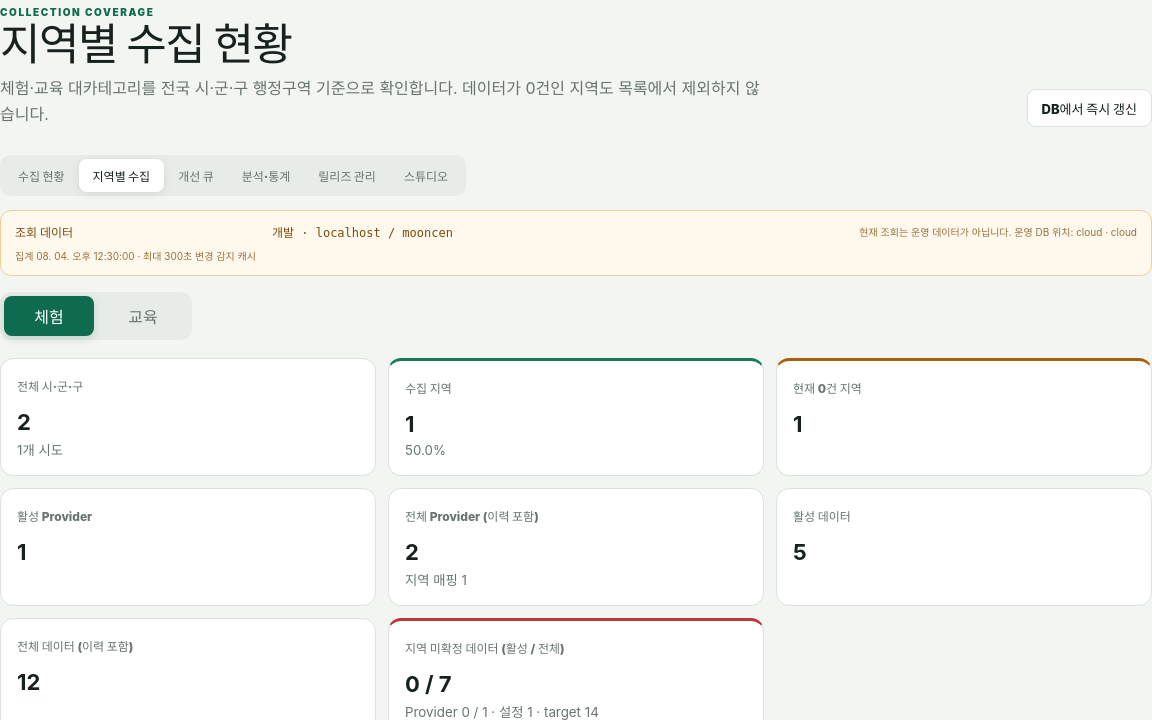
Test: RegionCoveragePage › switches the major category to education without dropping zero rows
Click the tab "교육" at (143, 316), box [98,296,188,336]
(page scrolled)
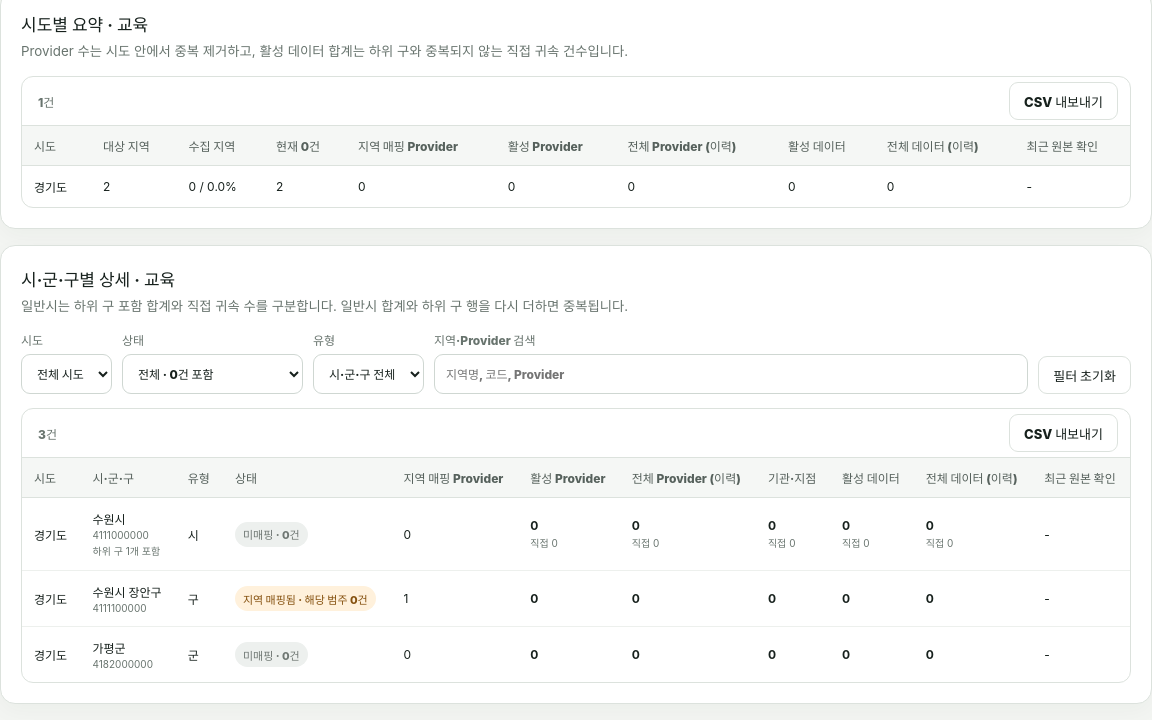
Expected: the text "수원시 장안구" is shown, [92,583,164,600]
Result: the heading "시·군·구별 상세 · 교육" is shown at [21,270,175,290]
